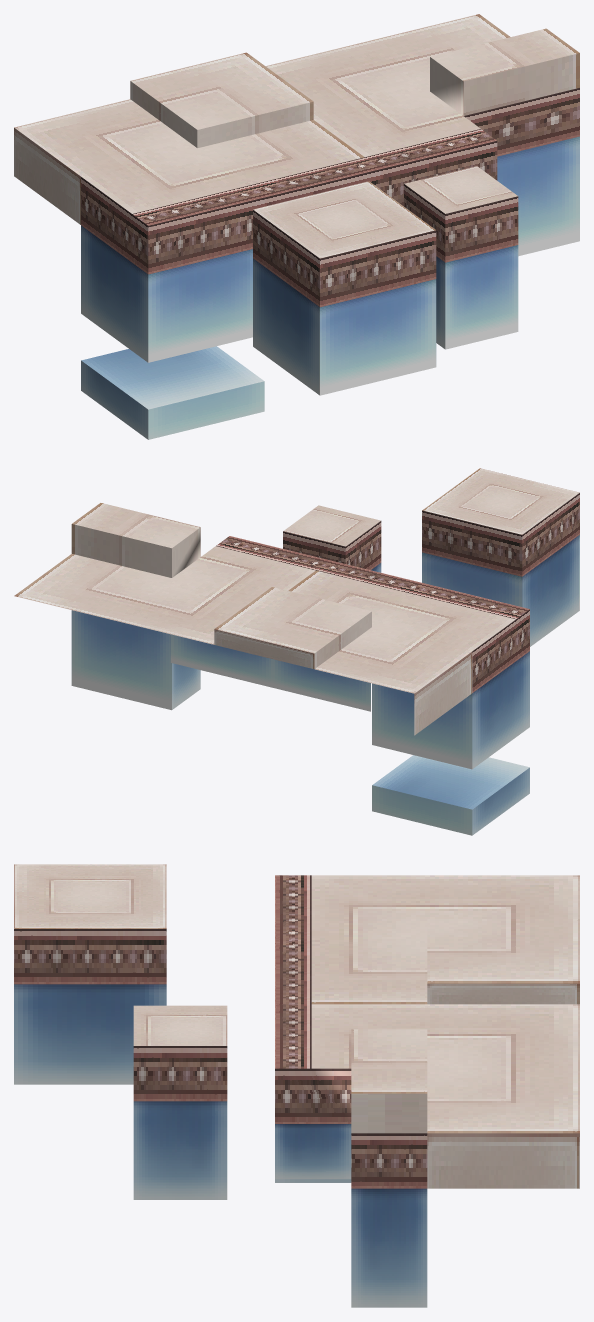
The model's file is a_ESDway03.glb.
The picture shows the model from 3 angles, top to bottom: view 1: azimuth 30°, elevation 25°; view 2: azimuth 150°, elevation 25°; view 3: azimuth 270°, elevation 25°; orthographic projection. The views are drawn at different scales.
Parts seen in each view (by area): view 1: a_ESDway03; view 2: a_ESDway03; view 3: a_ESDway03.
Boxes of the visible parts, x1,y1,x2,y2 form: a_ESDway03: [14, 14, 579, 439]; a_ESDway03: [14, 468, 579, 835]; a_ESDway03: [14, 864, 579, 1307].
Bounding box in the file's own units: 2 × 1.03 × 1.86.
Materials: 3 (3 with a texture image).
